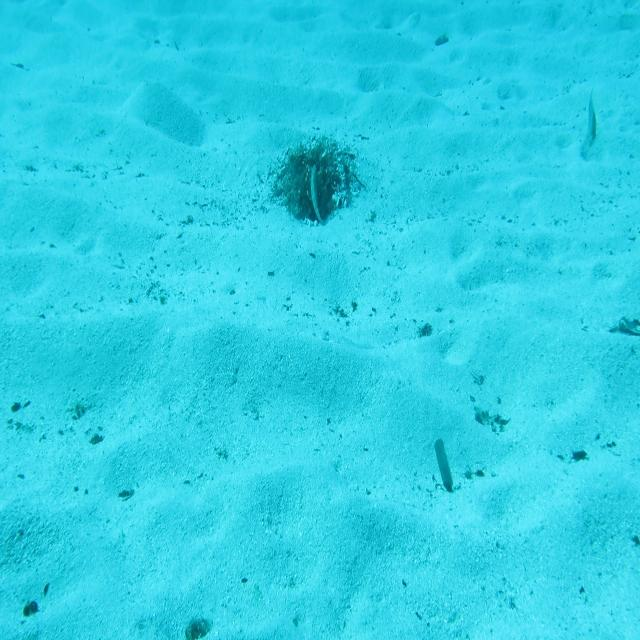FAN: (308, 161, 330, 227)
female: (581, 97, 608, 142)
nest: (272, 138, 366, 221)
vegetation: (432, 435, 451, 489), (605, 316, 640, 336), (182, 616, 210, 639), (435, 32, 451, 48)
